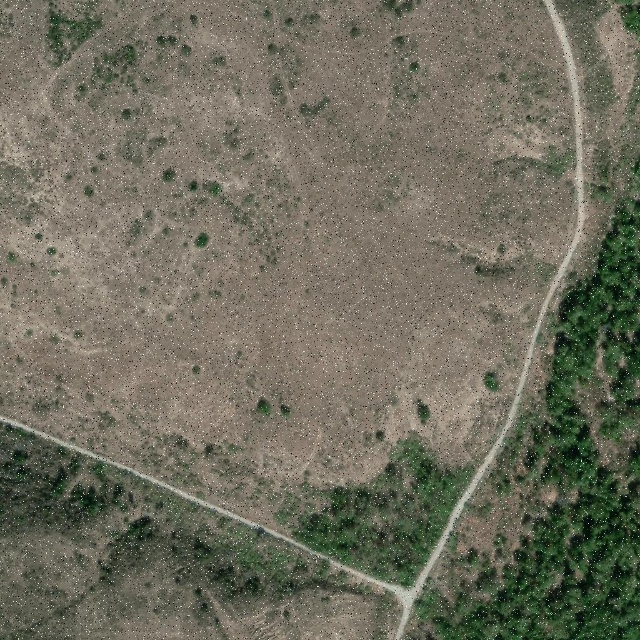vegetation: (413, 148, 640, 640), (0, 422, 383, 615), (285, 400, 481, 589), (46, 3, 108, 72), (79, 44, 138, 93), (608, 0, 640, 38)
